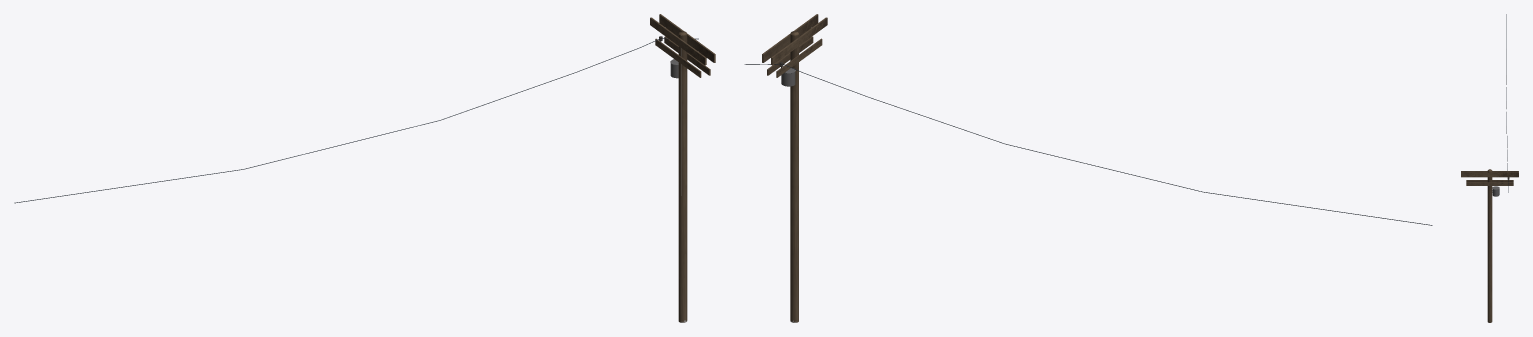
File: electric pole .fbx
The picture shows the model from 3 angles, left to right: view 1: azimuth 30°, elevation 25°; view 2: azimuth 150°, elevation 25°; view 3: azimuth 270°, elevation 25°; orthographic projection. The views are drawn at different scales.
Visible parts, largest first — view 1: pCylinder16_lambert3_0.003, model_0.001; view 2: pCylinder16_lambert3_0.003, model_0.001; view 3: pCylinder16_lambert3_0.003, model_0.001.
Part boxes in pixels (left/top/right/bottom): pCylinder16_lambert3_0.003: left=650, top=14, right=715, bottom=322; model_0.001: left=14, top=36, right=698, bottom=203; pCylinder16_lambert3_0.003: left=762, top=14, right=827, bottom=322; model_0.001: left=744, top=62, right=1432, bottom=225; pCylinder16_lambert3_0.003: left=1461, top=169, right=1518, bottom=322; model_0.001: left=1506, top=14, right=1509, bottom=192.
Bounding box in the file's own units: 3800 × 1527 × 526.
1 material, 1 textured.
